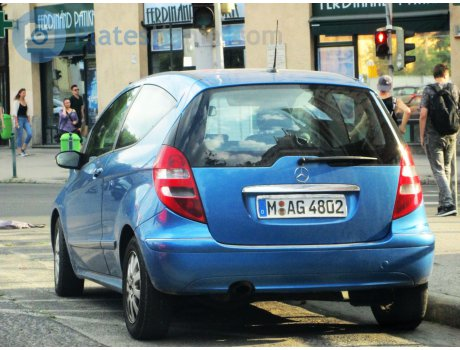License Plates: (267, 197, 345, 212)
